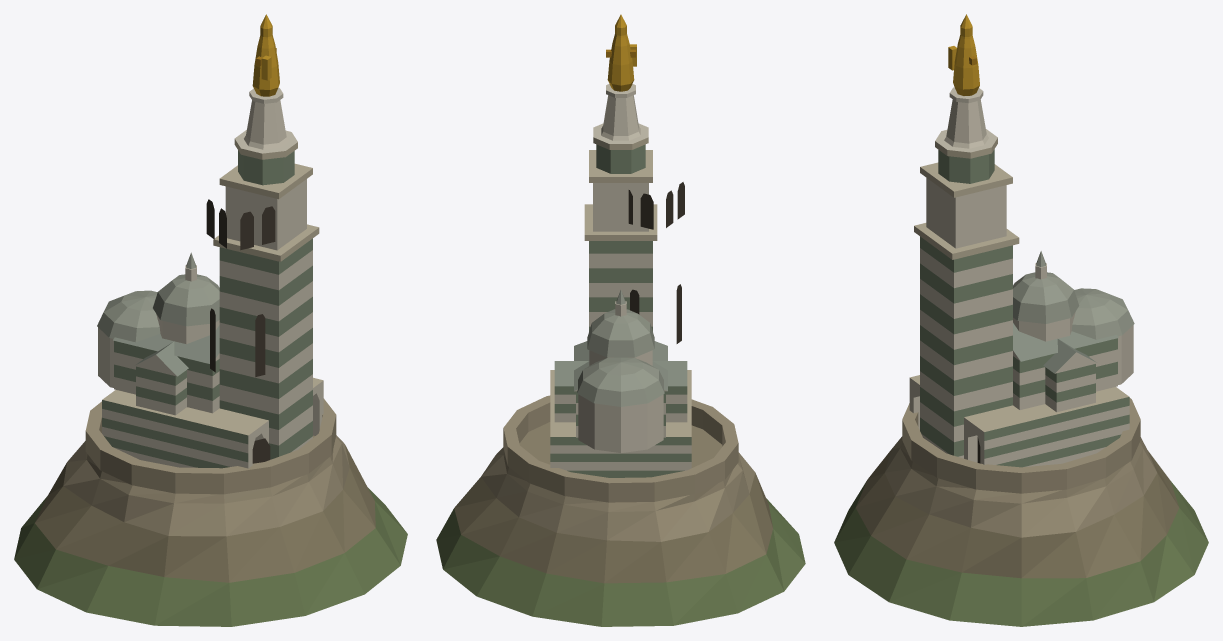
Rendered from basilique.glb.
3 renders of one model, left to right at view 1: azimuth 30°, elevation 25°; view 2: azimuth 150°, elevation 25°; view 3: azimuth 270°, elevation 25°, orthographic. The views are drawn at different scales.
Parts seen in each view (by area): view 1: basilique; view 2: basilique; view 3: basilique.
Boxes of the visible parts, x1,y1,x2,y2 form: basilique: (14,14,407,626); basilique: (436,14,805,626); basilique: (834,14,1208,626).
Size of the model in its own units: 1.76 by 2.64 by 1.65.
